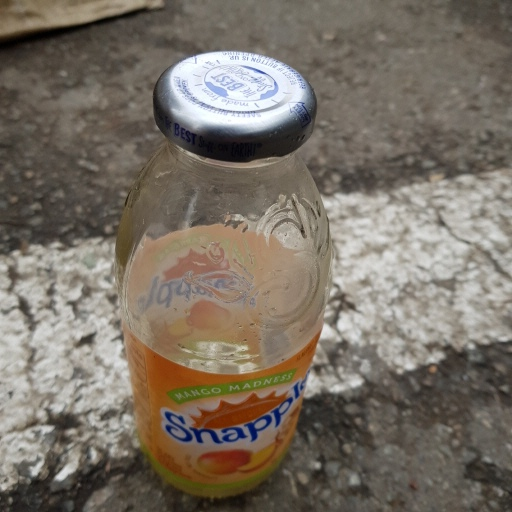Glass_4: (114, 48, 333, 502)
